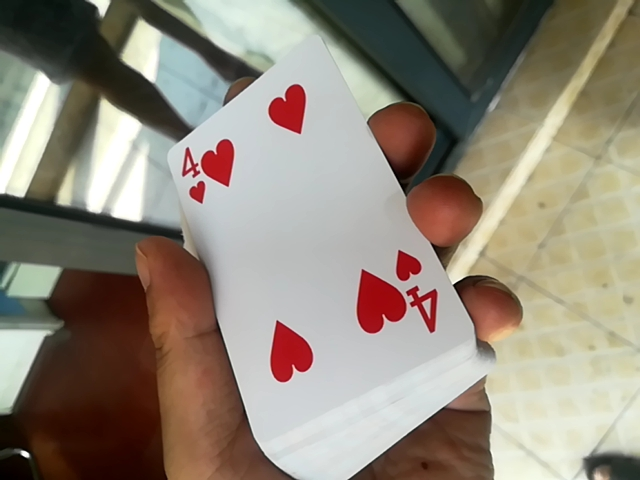hx 4: (101, 28, 456, 470)
